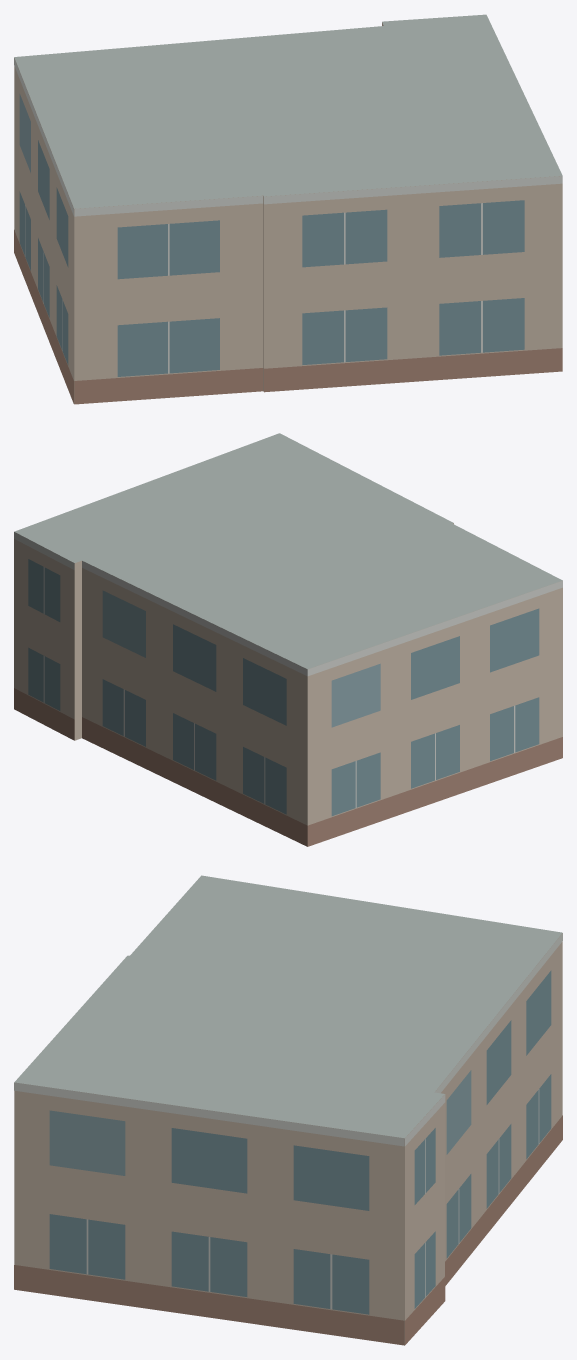
Rendered from survey-upis-33005023.glb.
3 renders of one model, top to bottom at view 1: azimuth 30°, elevation 25°; view 2: azimuth 150°, elevation 25°; view 3: azimuth 270°, elevation 25°, orthographic. The views are drawn at different scales.
Parts seen in each view (by area): view 1: survey-upis-33005023.tmp; view 2: survey-upis-33005023.tmp; view 3: survey-upis-33005023.tmp.
Part boxes in pixels (x1,y1,x2,y2): survey-upis-33005023.tmp: (14,14,562,404); survey-upis-33005023.tmp: (14,433,562,846); survey-upis-33005023.tmp: (14,875,562,1345).
Bounding box in the file's own units: 16.61 × 6.1 × 14.65.
